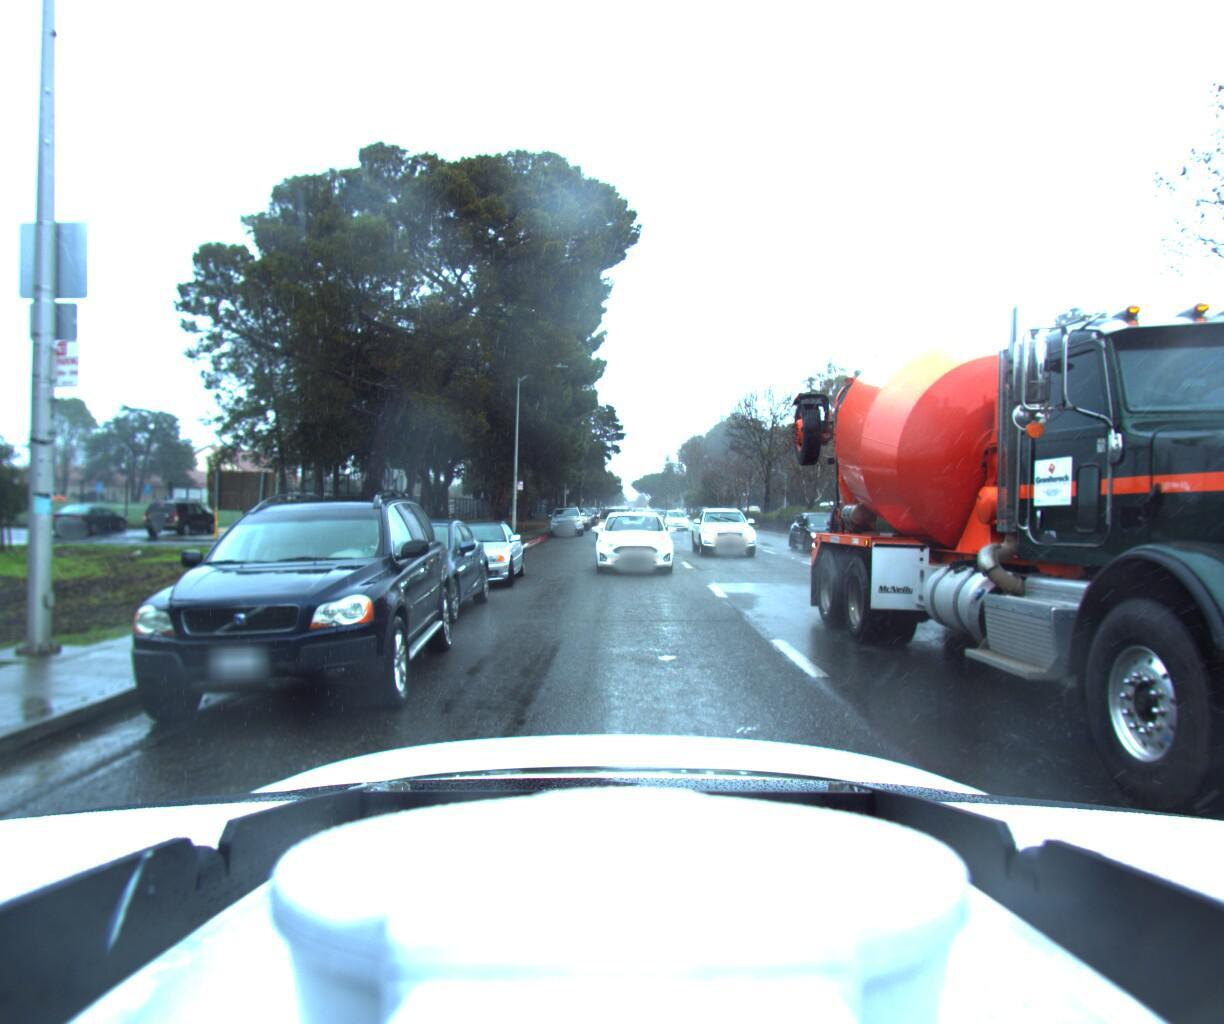car: (87, 464, 470, 751), (293, 510, 489, 629), (411, 514, 526, 588), (591, 502, 674, 574), (692, 500, 764, 558), (788, 504, 871, 554), (543, 502, 580, 535), (662, 508, 692, 530)
truck: (772, 0, 1224, 1024)
